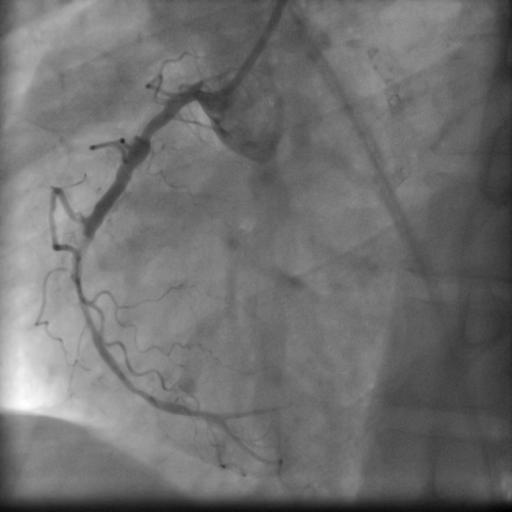Stenosis: (138, 109, 160, 141)
